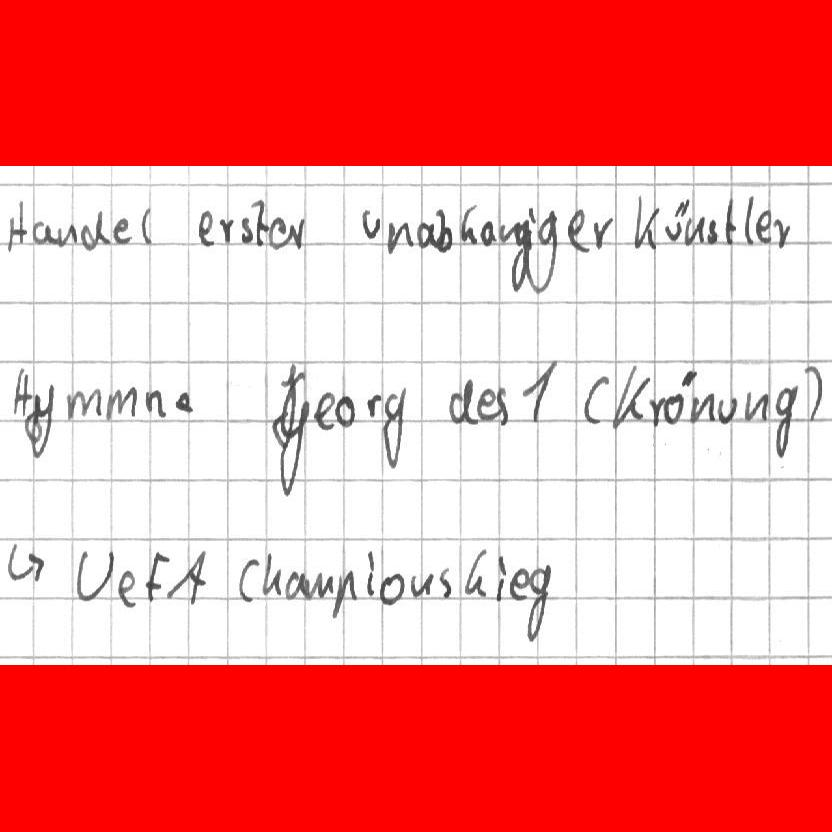Char: (273, 362, 313, 500), (610, 360, 651, 431), (518, 359, 559, 424), (167, 546, 212, 604), (523, 561, 554, 645), (72, 545, 116, 604), (770, 380, 801, 459), (384, 381, 410, 474), (531, 208, 556, 300), (30, 381, 56, 460), (5, 539, 47, 584), (582, 368, 611, 429), (633, 193, 660, 251), (667, 367, 694, 425), (462, 545, 491, 599), (448, 372, 476, 427), (801, 361, 825, 425), (333, 565, 361, 619), (144, 546, 170, 604), (510, 216, 529, 293), (104, 384, 140, 422), (64, 385, 103, 420), (80, 207, 110, 252), (5, 197, 28, 254), (237, 552, 261, 604), (385, 217, 414, 256), (566, 208, 590, 255), (313, 387, 337, 433), (664, 197, 687, 244), (285, 213, 313, 251), (688, 389, 716, 427), (302, 568, 335, 600), (434, 205, 455, 255), (11, 366, 31, 417), (459, 202, 481, 248), (261, 550, 283, 596), (743, 386, 769, 423), (361, 547, 379, 600), (495, 382, 515, 429), (475, 381, 497, 423), (251, 197, 268, 250), (721, 196, 739, 246), (380, 569, 405, 605), (195, 206, 216, 248), (142, 388, 169, 420), (284, 568, 311, 600), (507, 566, 531, 602), (713, 392, 739, 425), (120, 565, 139, 609), (335, 392, 357, 428), (360, 207, 383, 241), (493, 552, 508, 604), (138, 204, 157, 245), (435, 566, 456, 602), (409, 571, 434, 600), (269, 211, 286, 253), (592, 216, 613, 250), (742, 195, 756, 246), (31, 219, 56, 247), (112, 214, 133, 247), (416, 218, 437, 249), (773, 217, 792, 251), (685, 215, 705, 247), (648, 393, 666, 428), (57, 220, 79, 248), (755, 208, 772, 244), (173, 389, 196, 415), (497, 219, 520, 244), (479, 218, 496, 248), (219, 215, 234, 246), (238, 214, 252, 244), (366, 391, 381, 419), (706, 212, 717, 244)
